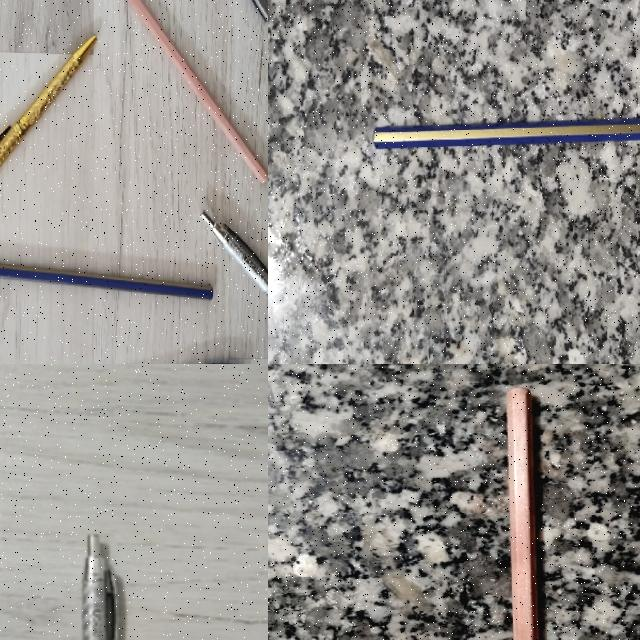pencil: (87, 0, 265, 181), (0, 258, 212, 298), (507, 389, 538, 639), (374, 120, 640, 148)
signature pen: (0, 38, 94, 215), (205, 211, 268, 364), (82, 535, 118, 640)
